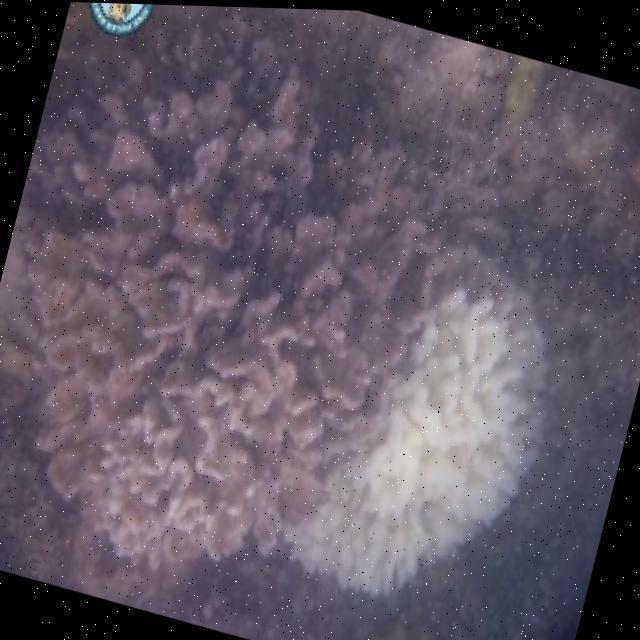Bleached Coral: (321, 293, 544, 603)
